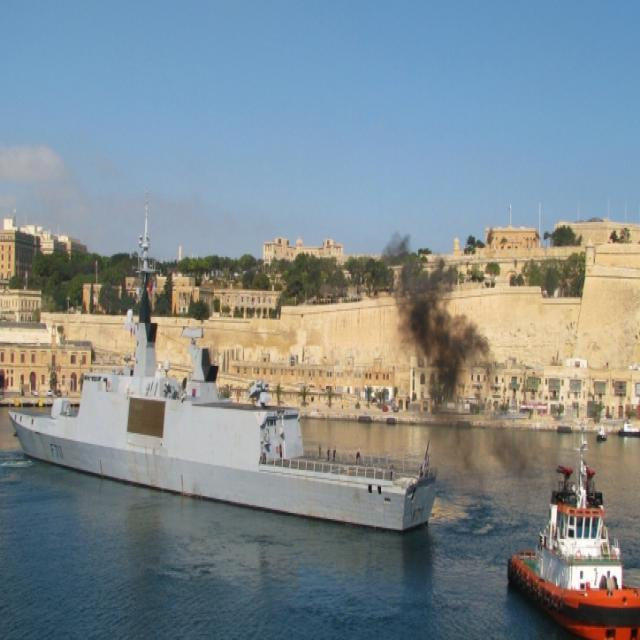Fragata: (8, 198, 442, 540)
